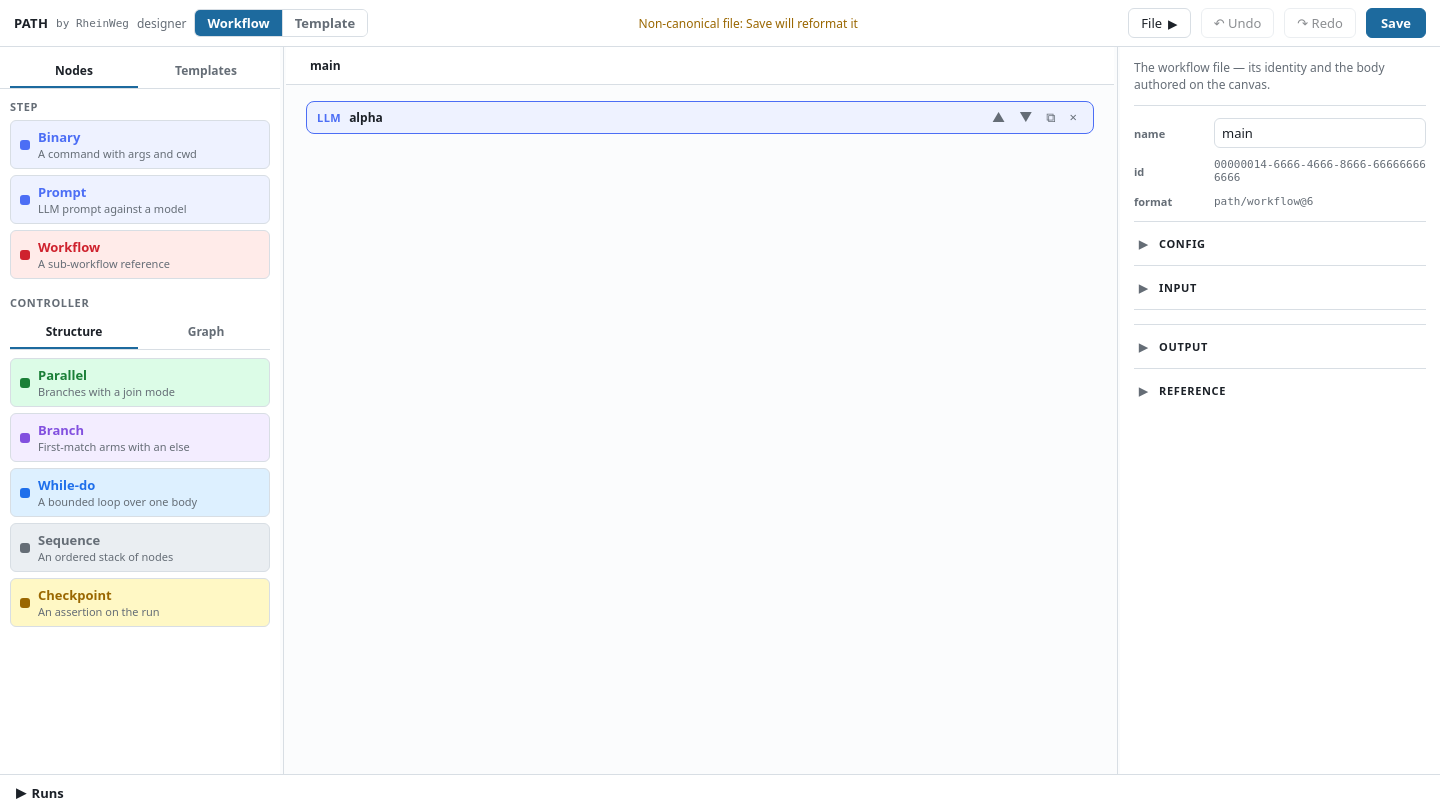
Scenario: workflow Save as… mine / shared picker › shows the Server's refusal of a shared save in the dialog
Expected: the text "alpha" is shown, [349, 109, 383, 126]
Click the button "File ▸" at (1159, 23), box [1128, 8, 1191, 38]
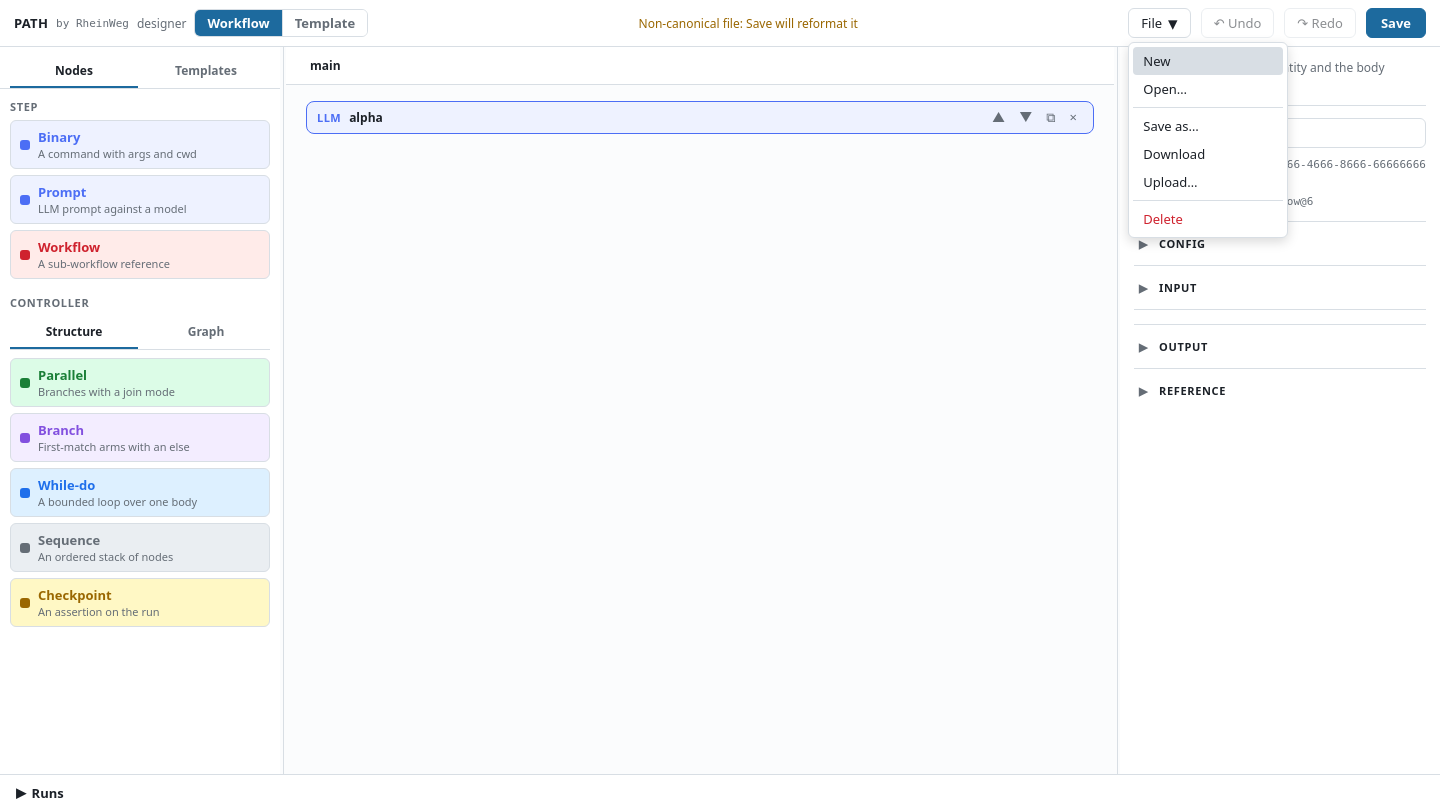
Click the menu item "Save as…" at (1208, 126), box [1133, 112, 1283, 140]
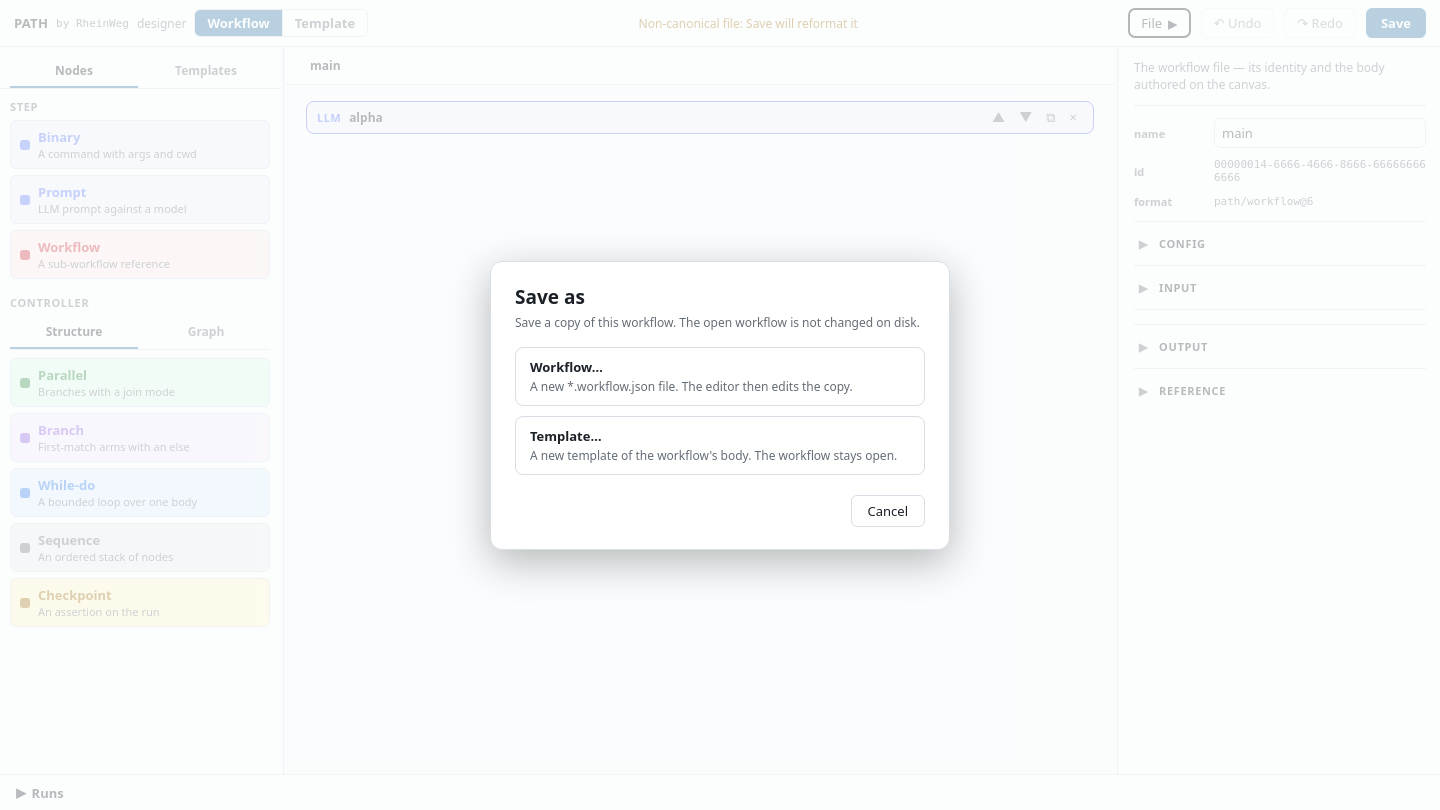
Click the button "Workflow…" at (720, 376), box [515, 346, 925, 406]
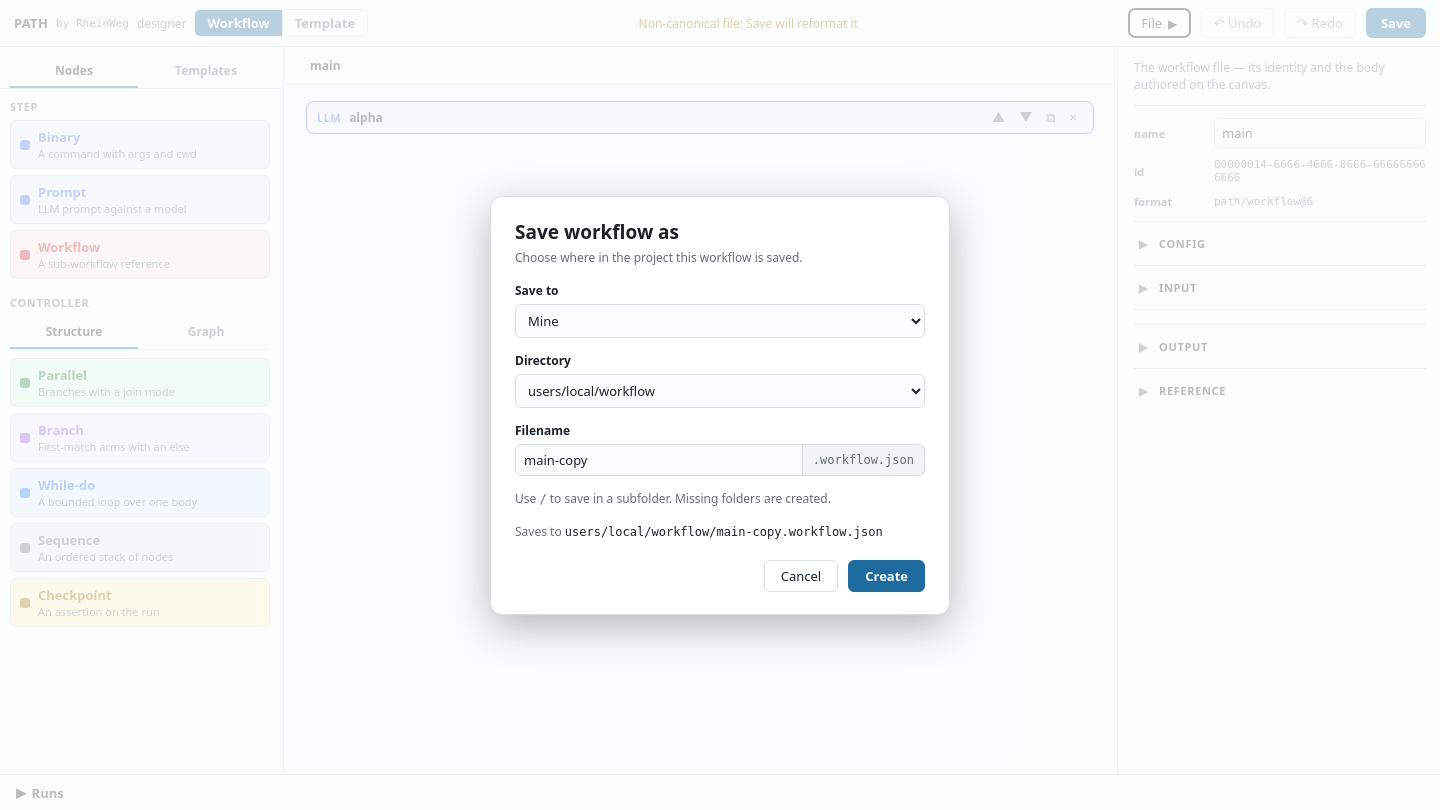
Select "Shared" in the dropdown labelled "Save to" at (720, 320), box [515, 304, 925, 338]
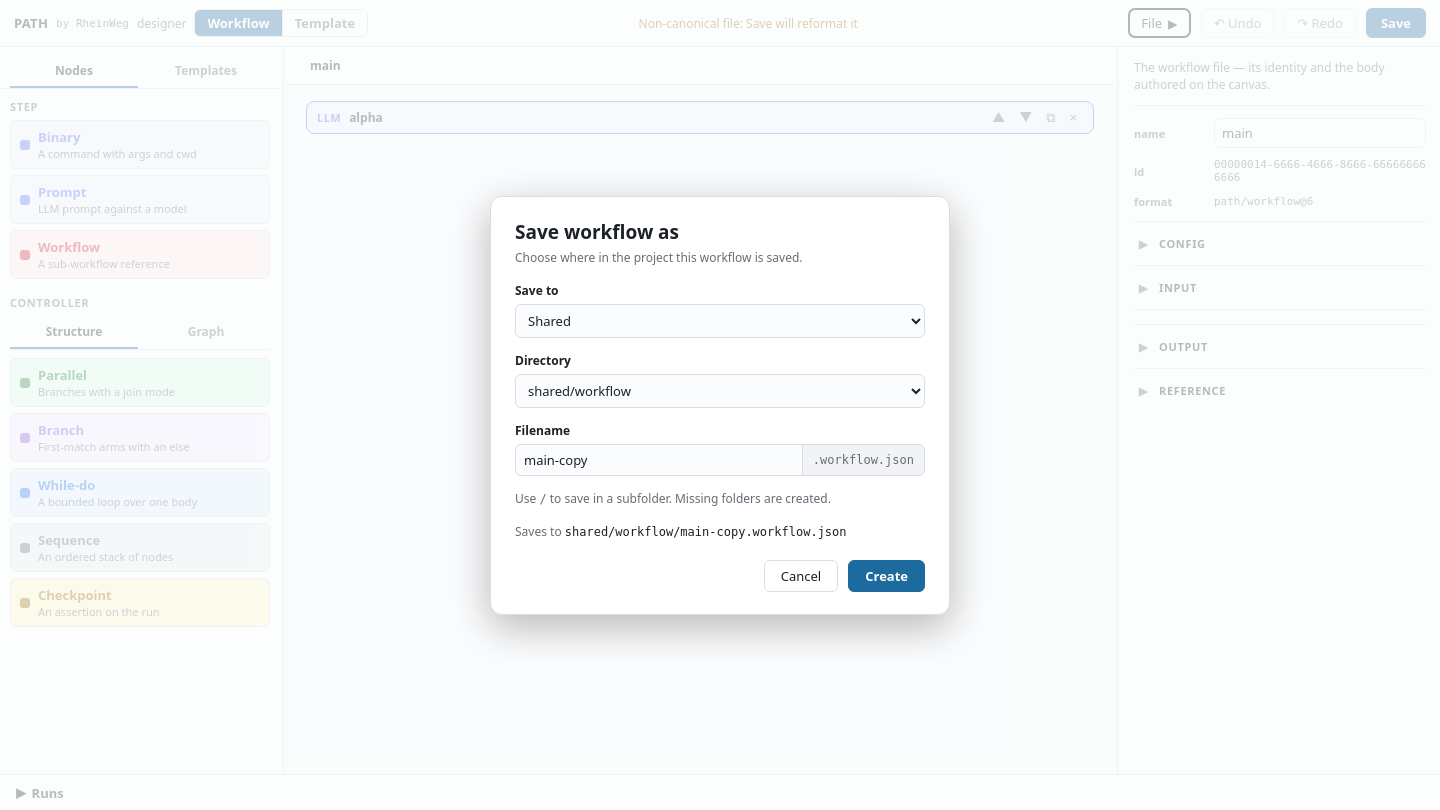
Click the button "Create" at (887, 576), box [848, 560, 925, 592]
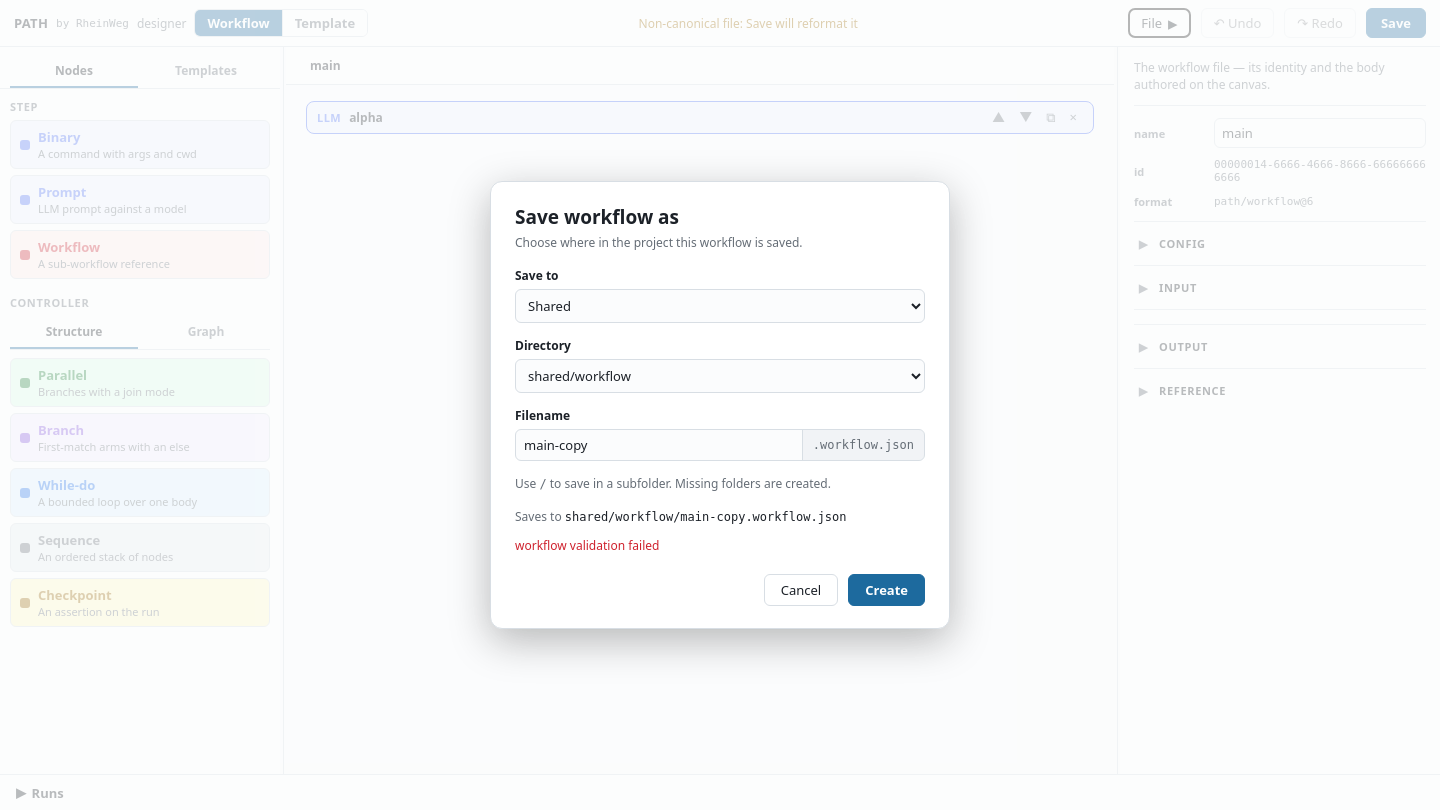
Result: the dialog "Save workflow as" is shown
Result: the message reads "workflow validation failed" at [515, 537, 659, 554]
